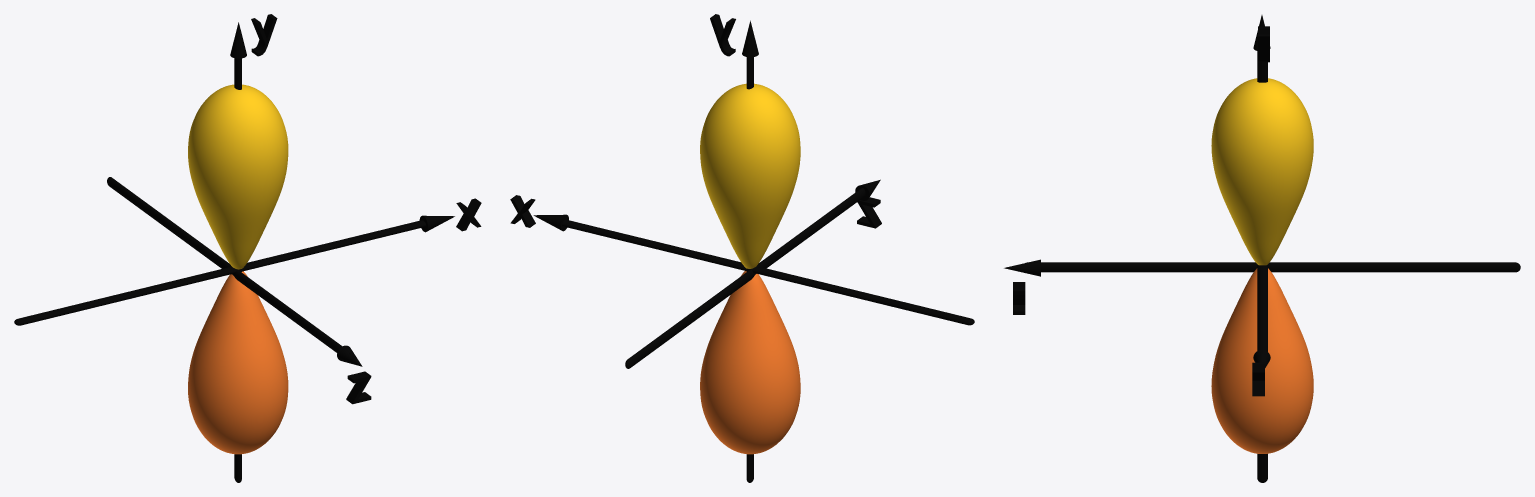
File: porbitalf.fbx
3 renders of one model, left to right at view 1: azimuth 30°, elevation 25°; view 2: azimuth 150°, elevation 25°; view 3: azimuth 270°, elevation 25°, orthographic.
Visible parts, largest first — view 1: node_id56, node_id34, root (×2), node_id107, node_id109, node_id105; view 2: node_id56, node_id34, root (×3), node_id107, node_id109, node_id105; view 3: node_id56, node_id34, root (×3).
Part boxes in pixels (<box>): node_id56: <box>188,84,288,269</box>; node_id34: <box>188,271,288,454</box>; root (×2): <box>14,177,426,354</box>; node_id107: <box>251,14,277,56</box>; node_id109: <box>346,371,371,404</box>; node_id105: <box>456,198,481,231</box>; node_id56: <box>700,83,800,268</box>; node_id34: <box>700,271,800,454</box>; root (×3): <box>548,41,974,482</box>; node_id107: <box>710,14,735,56</box>; node_id109: <box>857,197,881,228</box>; node_id105: <box>510,195,535,227</box>; node_id56: <box>1211,78,1313,265</box>; node_id34: <box>1211,268,1313,453</box>; root (×3): <box>1025,51,1520,482</box>.
Bounding box in the file's own units: 0.8474 × 0.8087 × 0.8087.
Materials: 7 (4 with a texture image).
